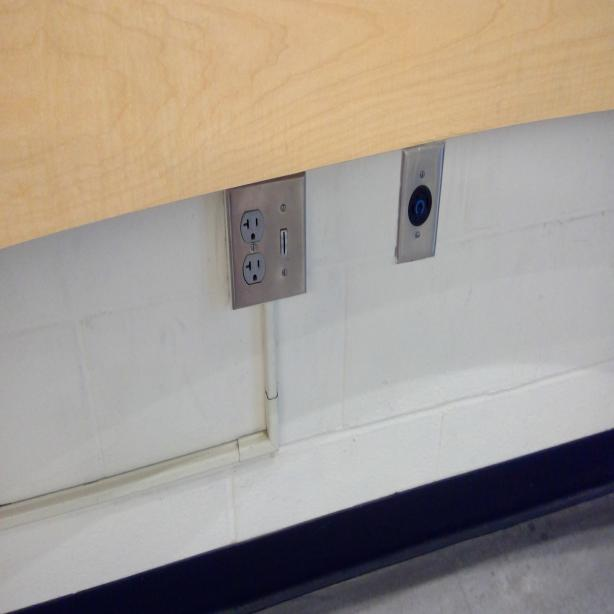typeb: (240, 210, 265, 245), (241, 253, 266, 288)
